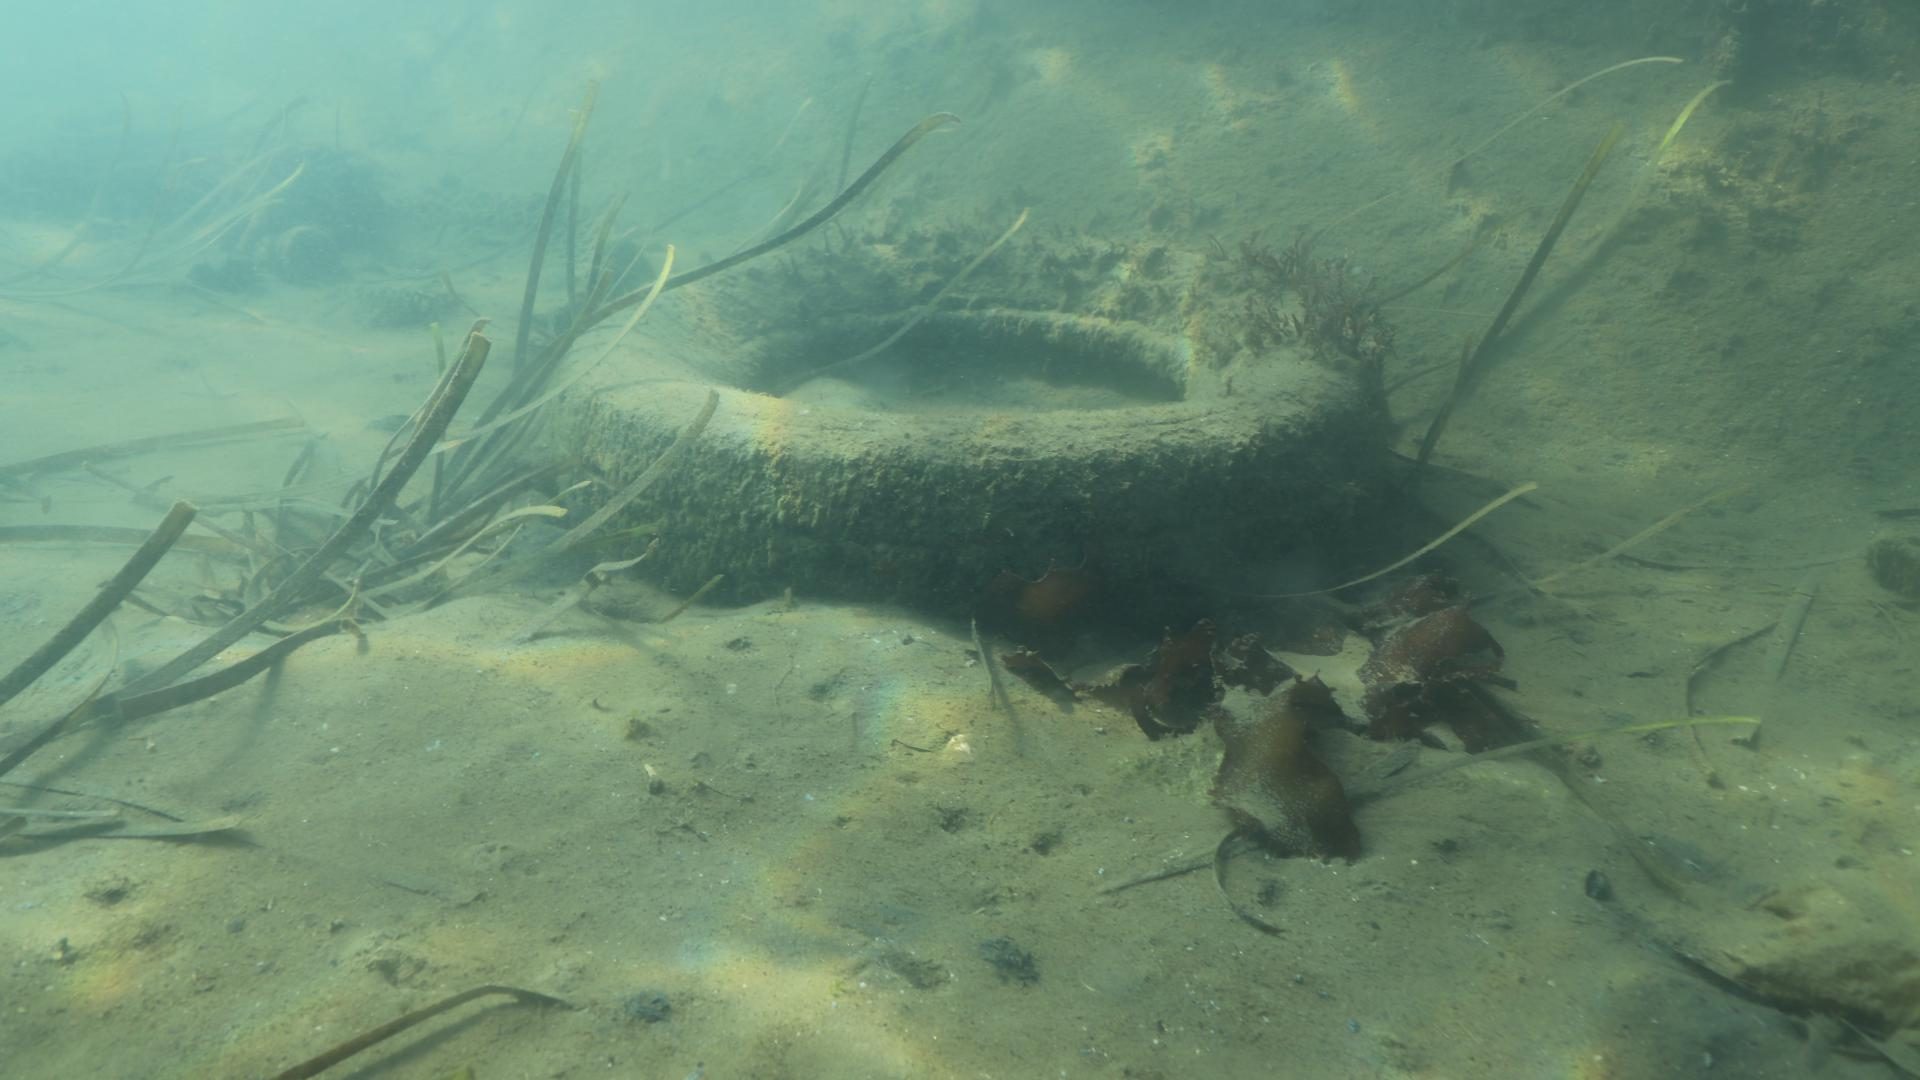tire: (553, 229, 1389, 622)
